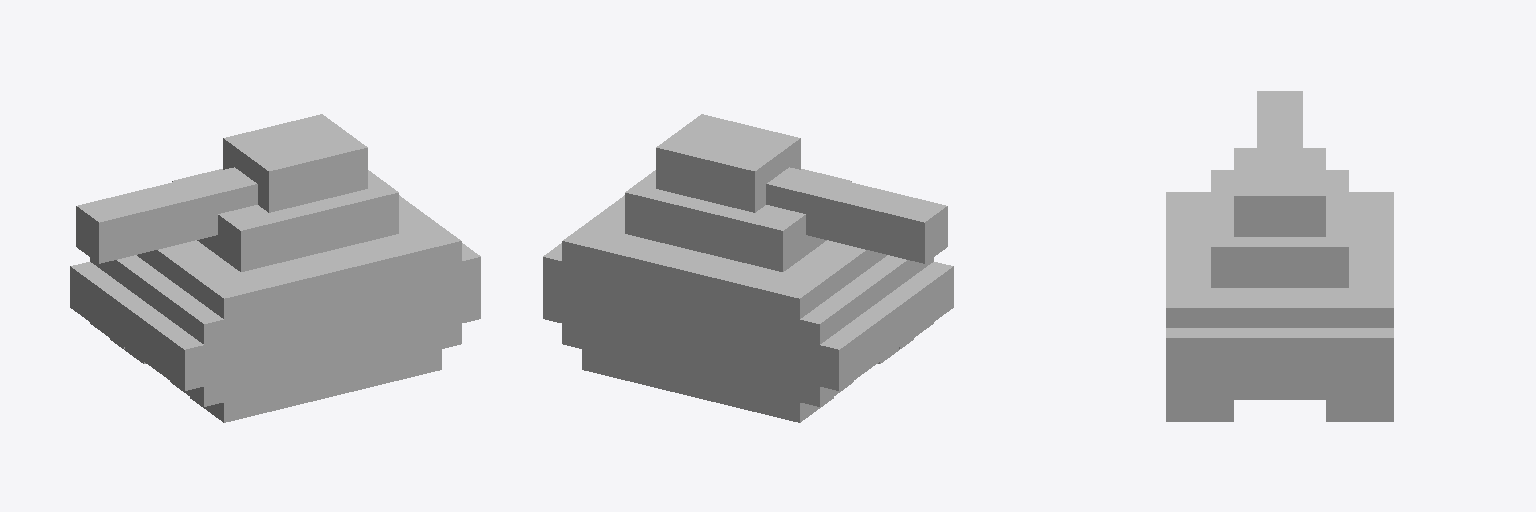
The model's file is cars-2.obj.
3 renders of one model, left to right at view 1: azimuth 30°, elevation 25°; view 2: azimuth 150°, elevation 25°; view 3: azimuth 270°, elevation 25°, orthographic.
Visible parts, largest first — view 1: object 1; view 2: object 1; view 3: object 1.
Boxes of the visible parts, box(x1,y1,x2,y2) form: object 1: box(70, 114, 480, 422); object 1: box(543, 114, 953, 422); object 1: box(1166, 91, 1393, 421).
Size of the model in its own units: 1.7 by 1 by 1.